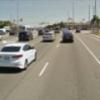cars: (0, 42, 38, 72), (17, 30, 34, 42), (42, 32, 57, 42), (62, 32, 75, 43)
